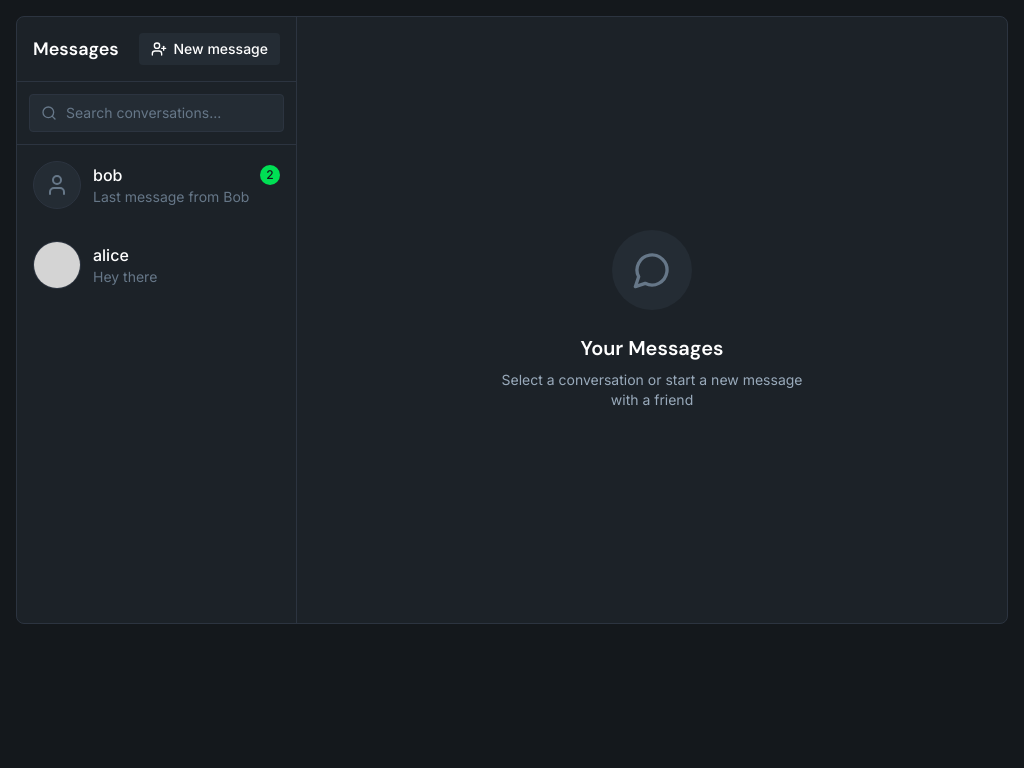
Test: DiscussionPage › ouvre une conversation et marque les messages comme lus
Step 1. Click the button "bob 2 Last message from Bob" → (156, 185), box [17,145,296,225]
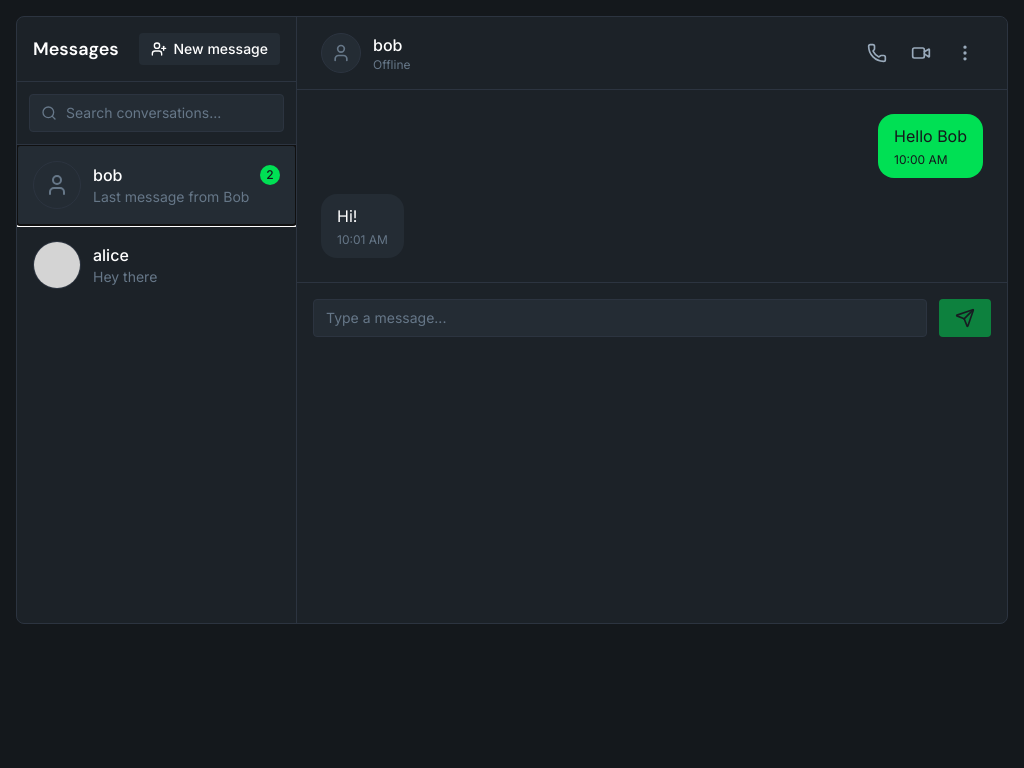
Check: the text "Hello Bob" is shown, box [894,124,967,148]
Check: the text "Hi!" is shown, box [337,206,357,226]
